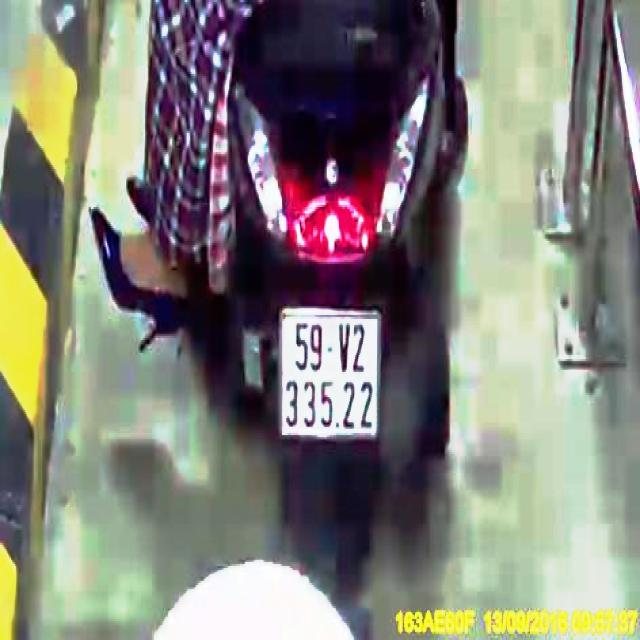license_plate: (282, 314, 380, 439)
